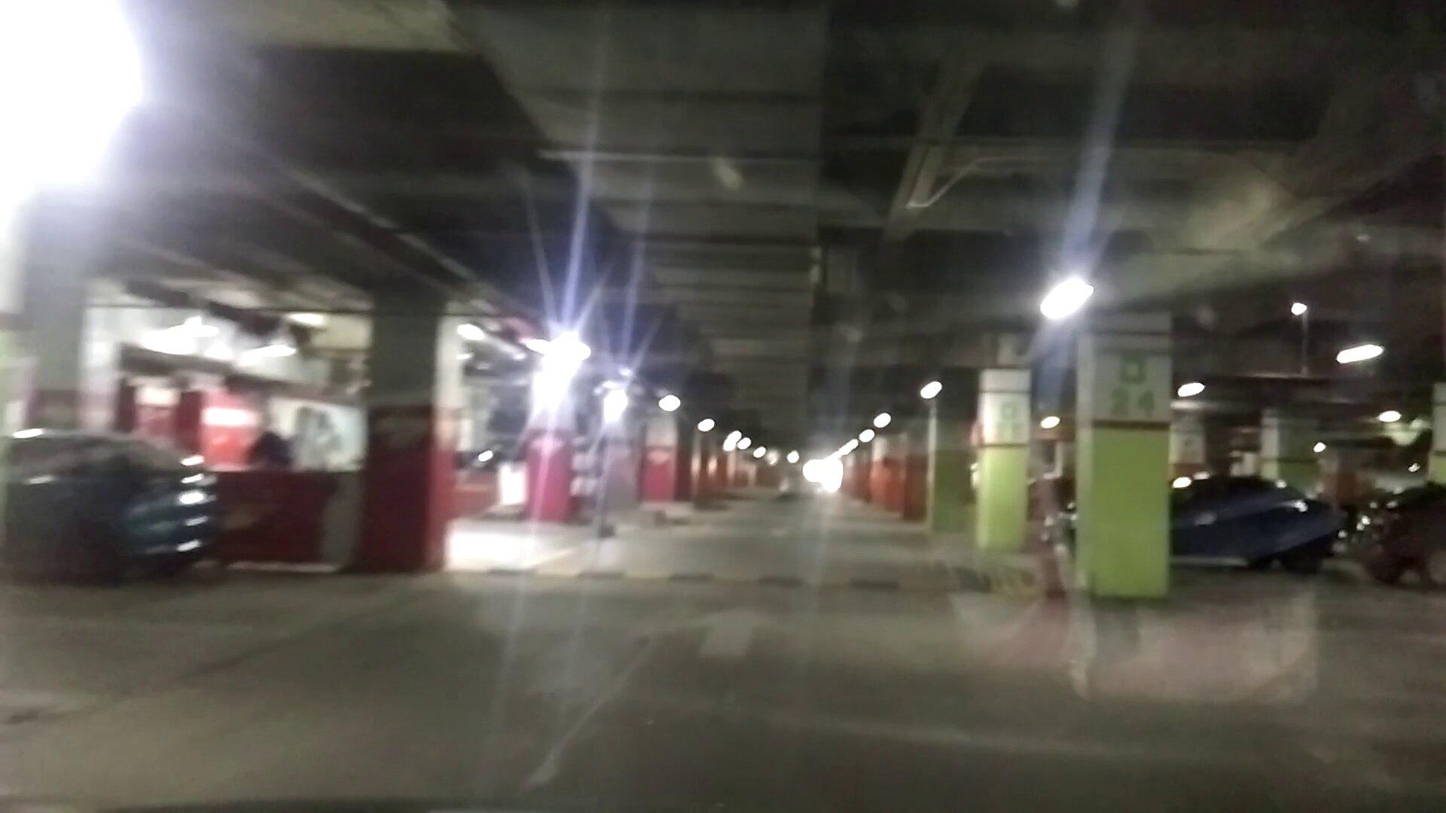Bump: (476, 561, 1049, 614)
